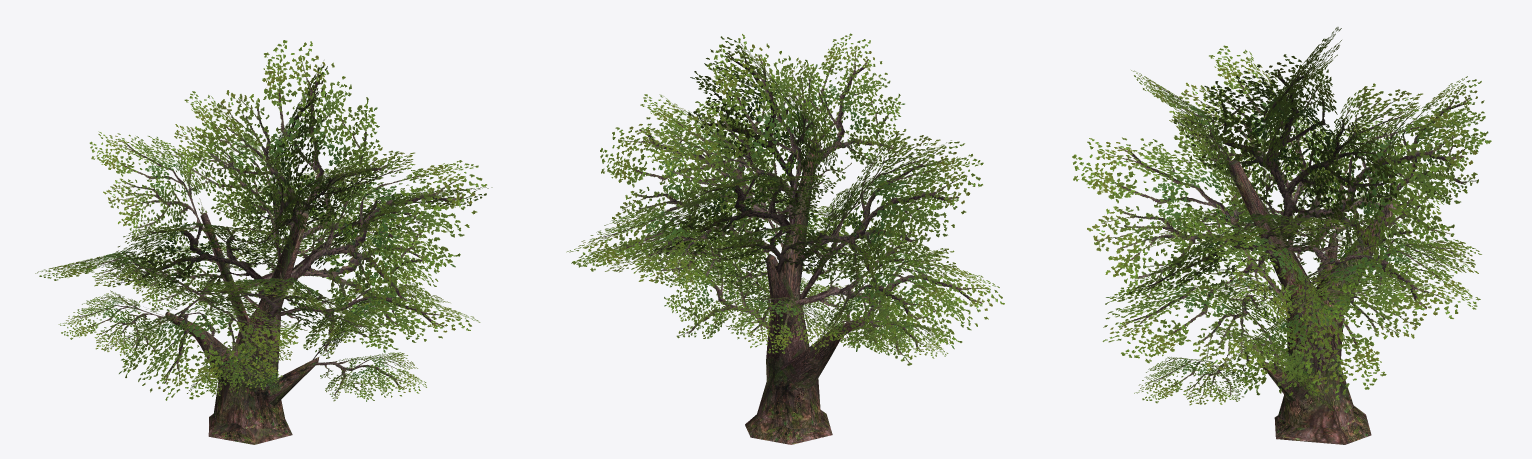
File: tre_bank01_big.static.glb
3 views of the same model, side by side, from view 1: azimuth 30°, elevation 25°; view 2: azimuth 150°, elevation 25°; view 3: azimuth 270°, elevation 25° (orthographic). The views are drawn at different scales.
Visible parts, largest first — view 1: tre_bank01_leaf_big, tre_bank01_pilla_big; view 2: tre_bank01_leaf_big, tre_bank01_pilla_big; view 3: tre_bank01_leaf_big, tre_bank01_pilla_big.
Boxes of the visible parts, left/top/right/bottom form: tre_bank01_leaf_big: left=35, top=40, right=492, bottom=401; tre_bank01_pilla_big: left=165, top=209, right=319, bottom=444; tre_bank01_leaf_big: left=566, top=33, right=1004, bottom=365; tre_bank01_pilla_big: left=745, top=147, right=864, bottom=444; tre_bank01_leaf_big: left=1072, top=27, right=1491, bottom=410; tre_bank01_pilla_big: left=1227, top=160, right=1397, bottom=444.
Size of the model in its own units: 74.44 by 64.03 by 60.18.
2 materials, 2 textured.
